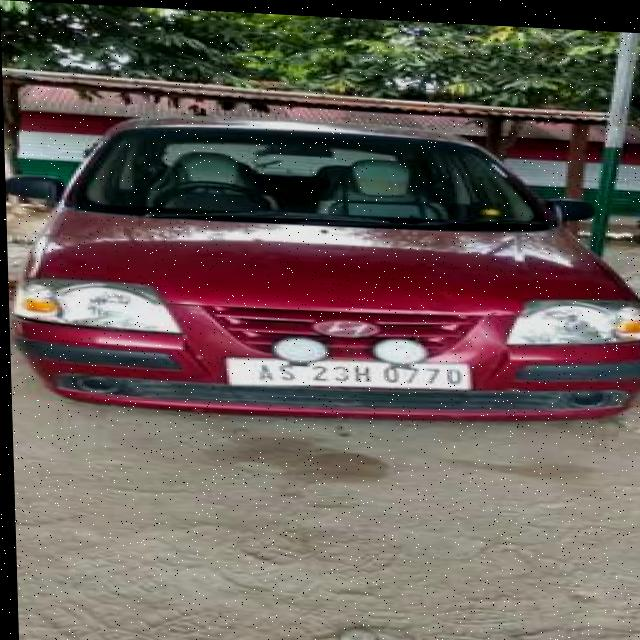plate: (215, 350, 478, 397)
